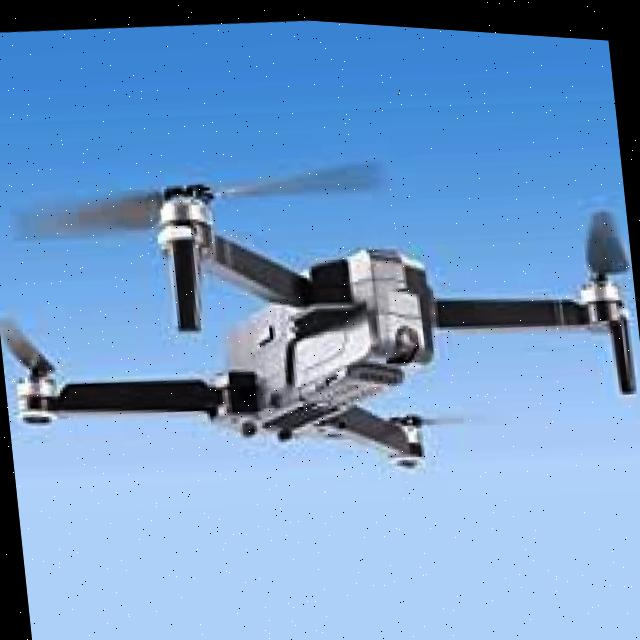drone: (0, 71, 640, 533)
